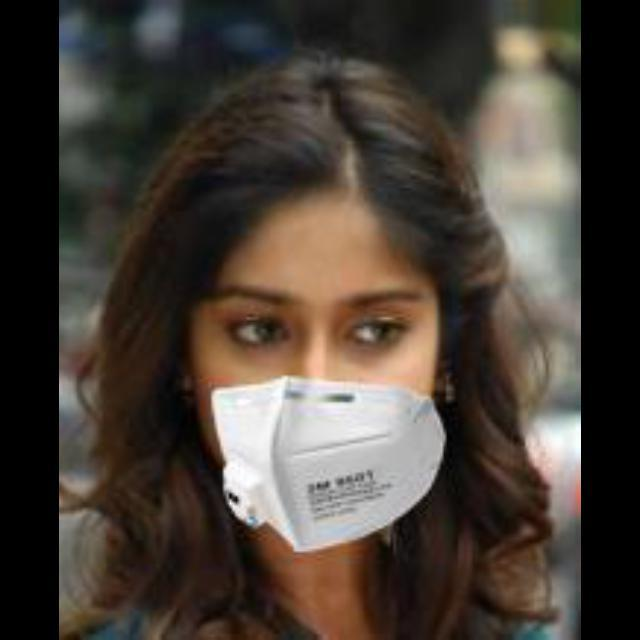suspicion: (185, 176, 460, 522)
